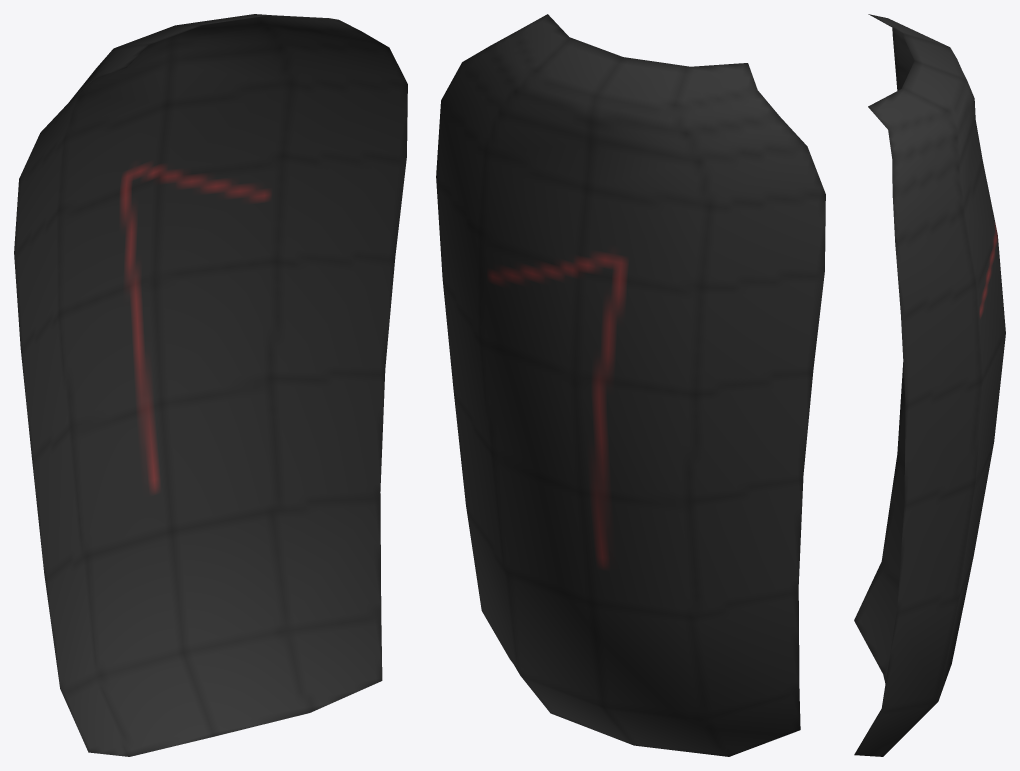
File: CaraNuevoNuevo.fbx
The picture shows the model from 3 angles, left to right: view 1: azimuth 30°, elevation 25°; view 2: azimuth 150°, elevation 25°; view 3: azimuth 270°, elevation 25°; orthographic projection. The views are drawn at different scales.
Visible parts, largest first — view 1: Oreja_L.017; view 2: Oreja_L.017; view 3: Oreja_L.017.
Part boxes in pixels (x1,y1,x2,y2): Oreja_L.017: (14,14,407,756); Oreja_L.017: (436,14,825,756); Oreja_L.017: (854,14,1005,756).
Bounding box in the file's own units: 33.06 × 56.63 × 11.8.
